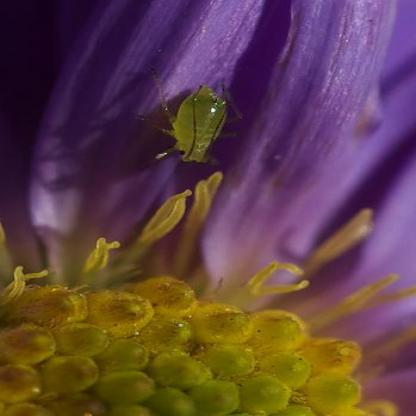aphid: (138, 74, 235, 172)
